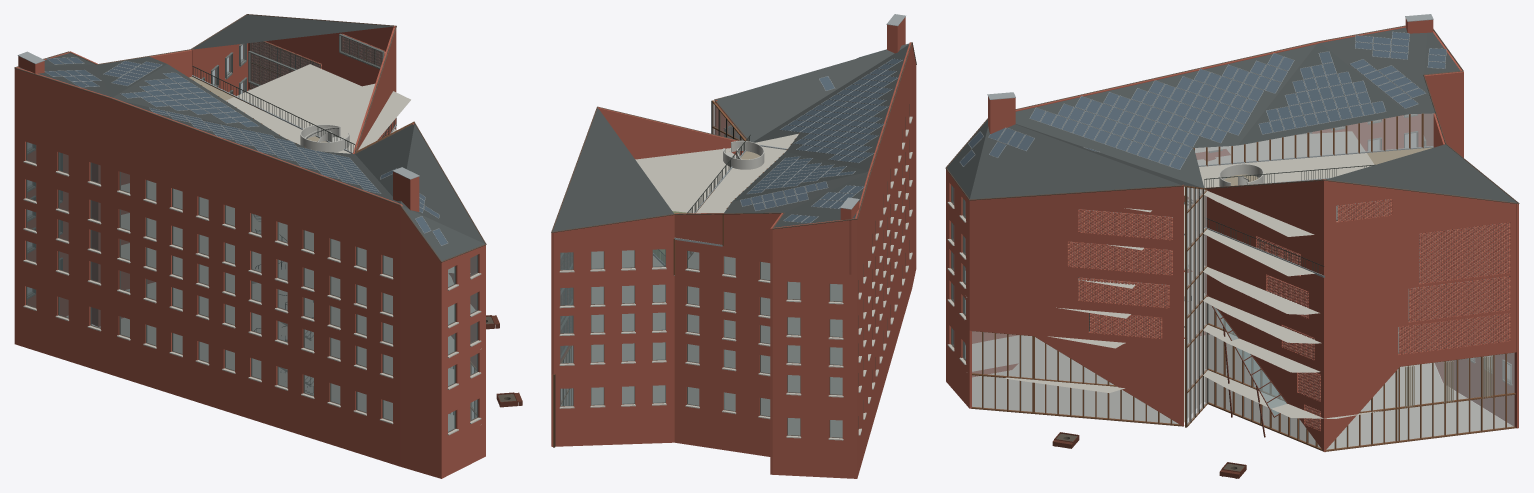
The model's file is saw-exterior-5545dc2da06e.glb.
3 views of the same model, side by side, from view 1: azimuth 30°, elevation 25°; view 2: azimuth 150°, elevation 25°; view 3: azimuth 270°, elevation 25° (orthographic). The views are drawn at different scales.
Visible parts, largest first — view 1: SAW.001; view 2: SAW.001; view 3: SAW.001.
Part boxes in pixels (left/top/right/bottom): SAW.001: left=14, top=14, right=522, bottom=478; SAW.001: left=551, top=14, right=916, bottom=478; SAW.001: left=945, top=14, right=1519, bottom=478.
Size of the model in its own units: 40.81 by 29.04 by 53.36.
